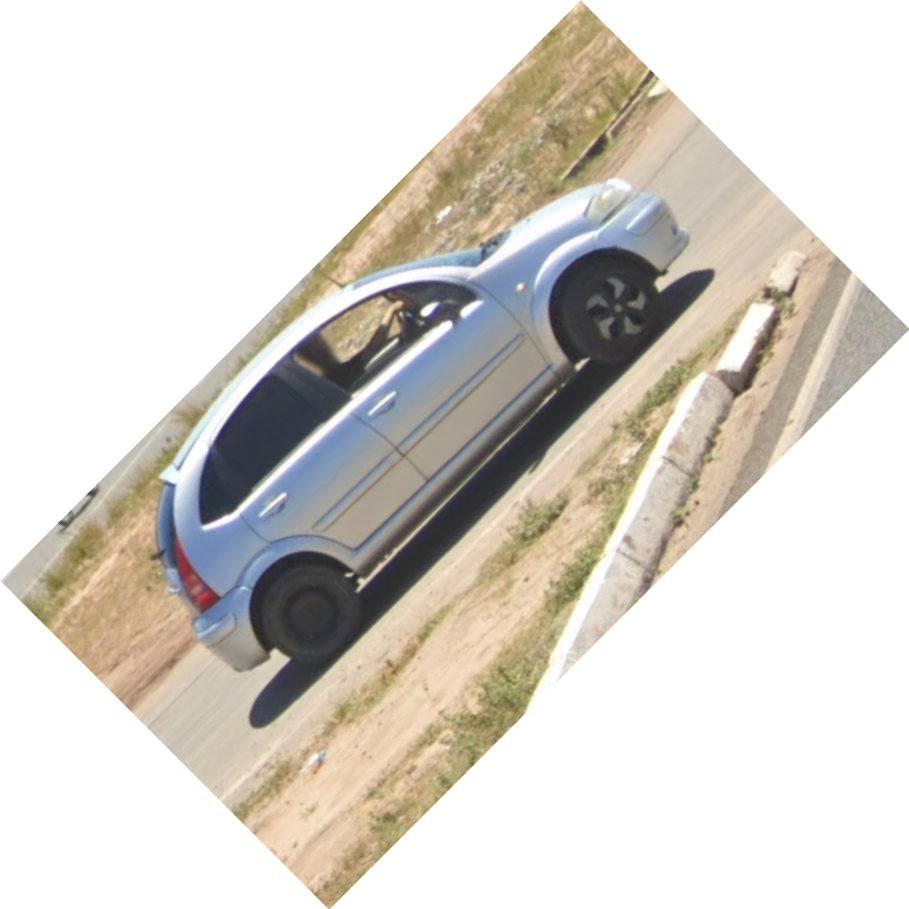car: (144, 176, 691, 677)
